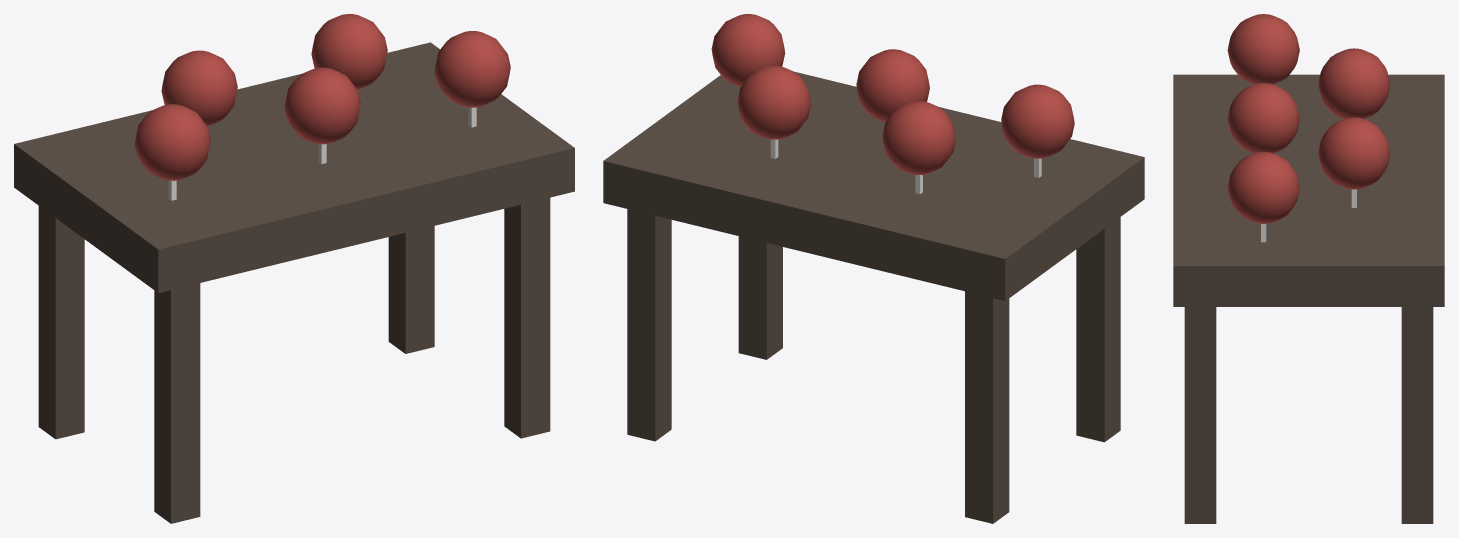
The model's file is prop_ringoame.glb.
3 renders of one model, left to right at view 1: azimuth 30°, elevation 25°; view 2: azimuth 150°, elevation 25°; view 3: azimuth 270°, elevation 25°, orthographic. The views are drawn at different scales.
Parts seen in each view (by area): view 1: ringoame; view 2: ringoame; view 3: ringoame.
Part boxes in pixels (x1,y1,x2,y2): ringoame: (14, 14, 574, 523); ringoame: (603, 14, 1144, 523); ringoame: (1173, 14, 1444, 523).
Size of the model in its own units: 1 by 0.86 by 0.6.
